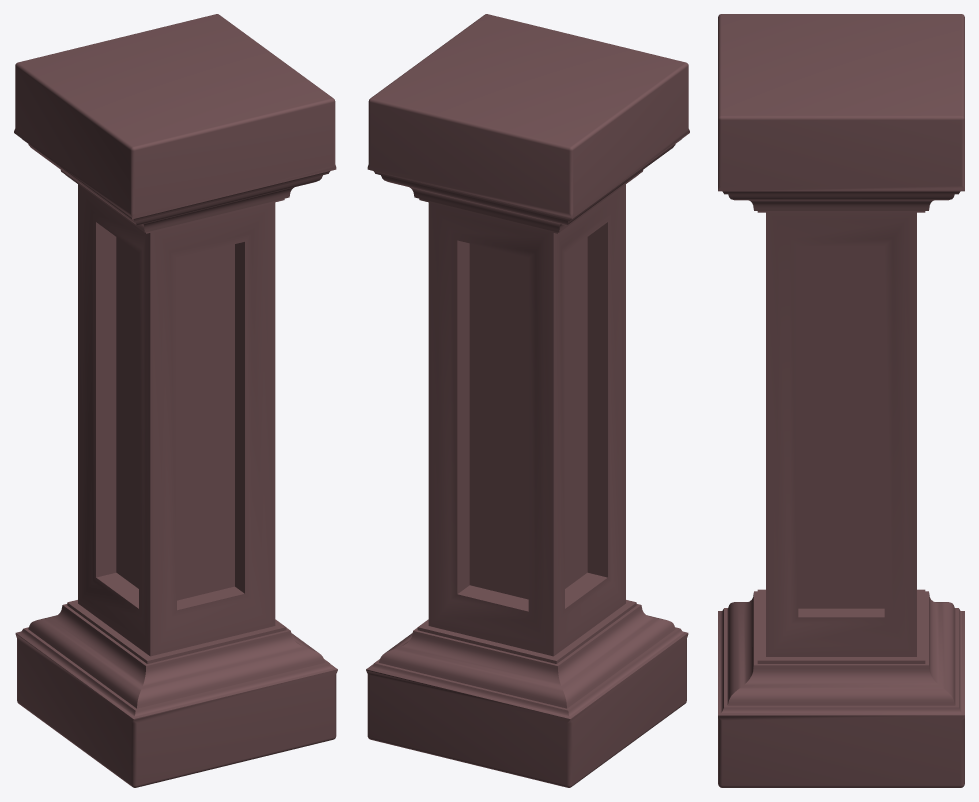
File: Pillar.fbx
The picture shows the model from 3 angles, left to right: view 1: azimuth 30°, elevation 25°; view 2: azimuth 150°, elevation 25°; view 3: azimuth 270°, elevation 25°; orthographic projection. The views are drawn at different scales.
Parts seen in each view (by area): view 1: Pillar; view 2: Pillar; view 3: Pillar.
Part boxes in pixels (box(x1,y1,x2,y2)): Pillar: box(14, 14, 337, 787); Pillar: box(366, 14, 689, 787); Pillar: box(718, 14, 964, 787).
Bounding box in the file's own units: 201 × 600 × 200.
